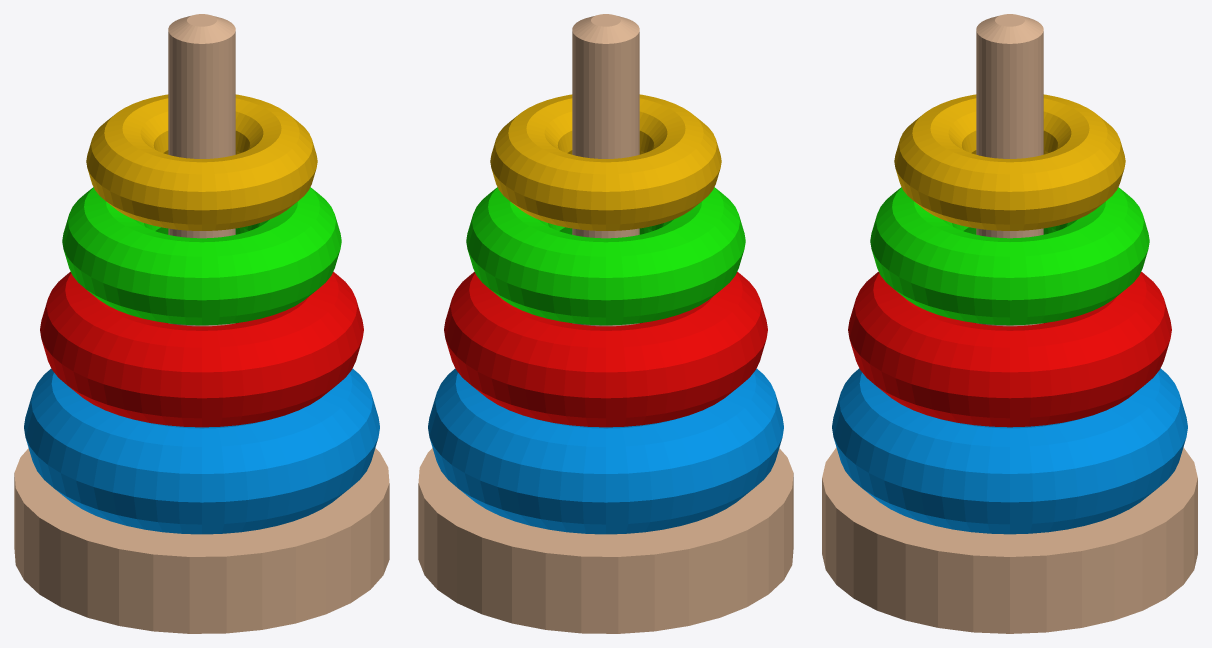
The model's file is JouetTour.fbx.
The picture shows the model from 3 angles, left to right: view 1: azimuth 30°, elevation 25°; view 2: azimuth 150°, elevation 25°; view 3: azimuth 270°, elevation 25°; orthographic projection.
Visible parts, largest first — view 1: Jouet1; view 2: Jouet1; view 3: Jouet1.
Boxes of the visible parts, left/top/right/bottom form: Jouet1: left=14, top=14, right=389, bottom=633; Jouet1: left=418, top=14, right=793, bottom=633; Jouet1: left=822, top=14, right=1197, bottom=633.
Bounding box in the file's own units: 11.62 × 18.23 × 11.62.
